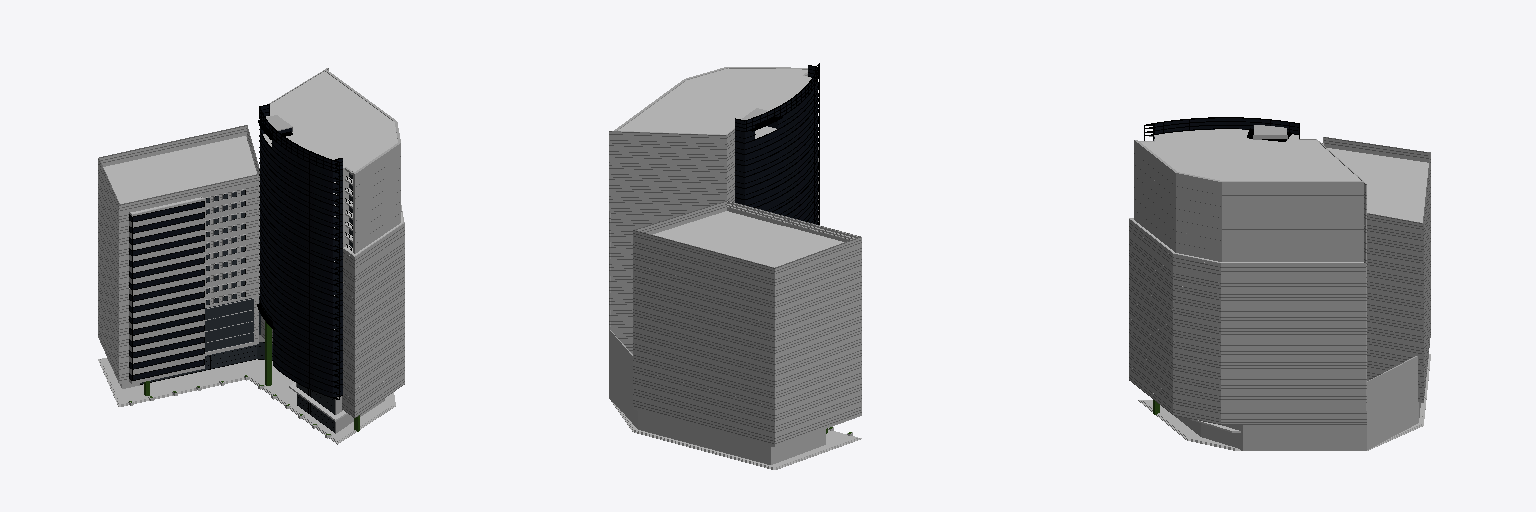
Rendered from office.obj.
3 views of the same model, side by side, from view 1: azimuth 30°, elevation 25°; view 2: azimuth 150°, elevation 25°; view 3: azimuth 270°, elevation 25° (orthographic).
Parts seen in each view (by area): view 1: Rectangl29, Line206, Line72, Line127, Line15, Plane17, Line99, Line202; view 2: Rectangl29, Line127, Line72, Line99, Line206, Line15, Line202; view 3: Rectangl29, Line127, Line72, Line99, Line206, Line202, Line15.
Boxes of the visible parts, x1=… form: Rectangl29: x1=98, y1=68, x2=404, y2=433; Line206: x1=130, y1=105, x2=342, y2=396; Line72: x1=103, y1=71, x2=402, y2=421; Line127: x1=98, y1=69, x2=404, y2=417; Line15: x1=129, y1=104, x2=352, y2=430; Plane17: x1=140, y1=173, x2=352, y2=432; Line99: x1=98, y1=68, x2=404, y2=417; Line202: x1=100, y1=358, x2=393, y2=441; Rectangl29: x1=609, y1=67, x2=861, y2=464; Line127: x1=609, y1=130, x2=861, y2=443; Line72: x1=618, y1=68, x2=843, y2=267; Line99: x1=609, y1=130, x2=861, y2=443; Line206: x1=735, y1=66, x2=817, y2=224; Line15: x1=735, y1=63, x2=819, y2=224; Line202: x1=620, y1=410, x2=857, y2=467; Rectangl29: x1=1129, y1=125, x2=1430, y2=450; Line127: x1=1129, y1=138, x2=1430, y2=423; Line72: x1=1131, y1=129, x2=1428, y2=432; Line99: x1=1129, y1=137, x2=1430, y2=424; Line206: x1=1153, y1=118, x2=1298, y2=140; Line202: x1=1142, y1=358, x2=1428, y2=448; Line15: x1=1144, y1=117, x2=1299, y2=140.
Size of the model in its own units: 33.68 by 38.68 by 38.11.